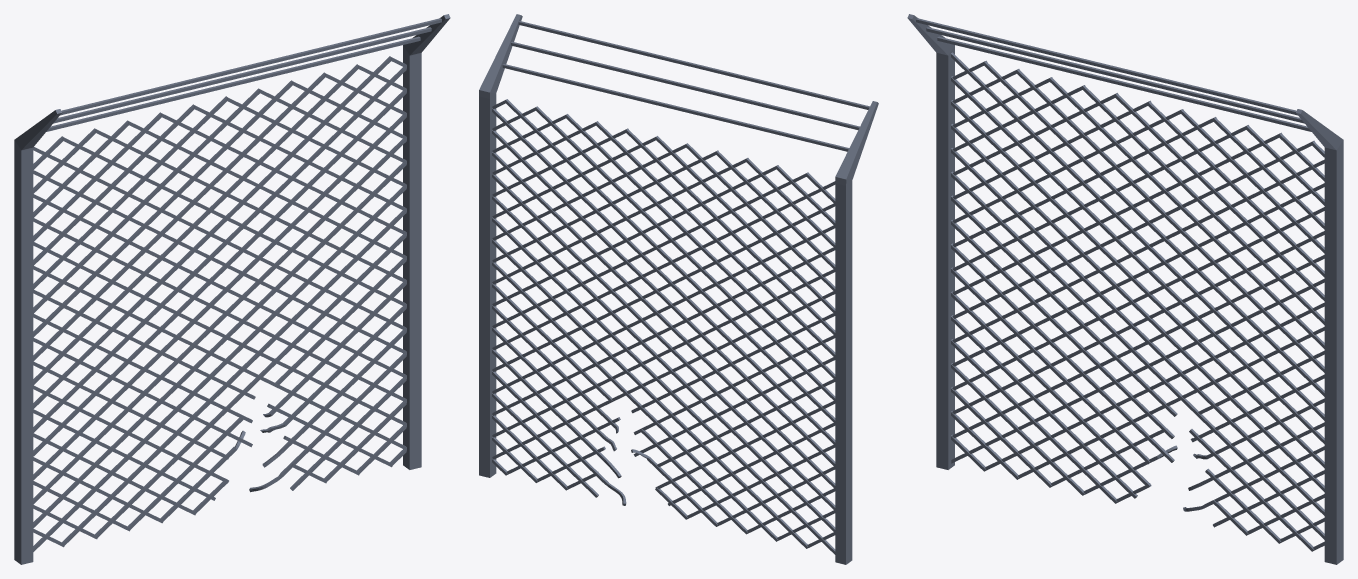
File: fence_metal_2.fbx
The picture shows the model from 3 angles, left to right: view 1: azimuth 30°, elevation 25°; view 2: azimuth 150°, elevation 25°; view 3: azimuth 330°, elevation 25°; orthographic projection. The views are drawn at different scales.
Parts seen in each view (by area): view 1: fence_metal_2; view 2: fence_metal_2; view 3: fence_metal_2.
Boxes of the visible parts, x1,y1,x2,y2 form: fence_metal_2: [14, 14, 450, 564]; fence_metal_2: [479, 14, 878, 564]; fence_metal_2: [907, 14, 1343, 564].
Size of the model in its own units: 439 by 499 by 81.3.
